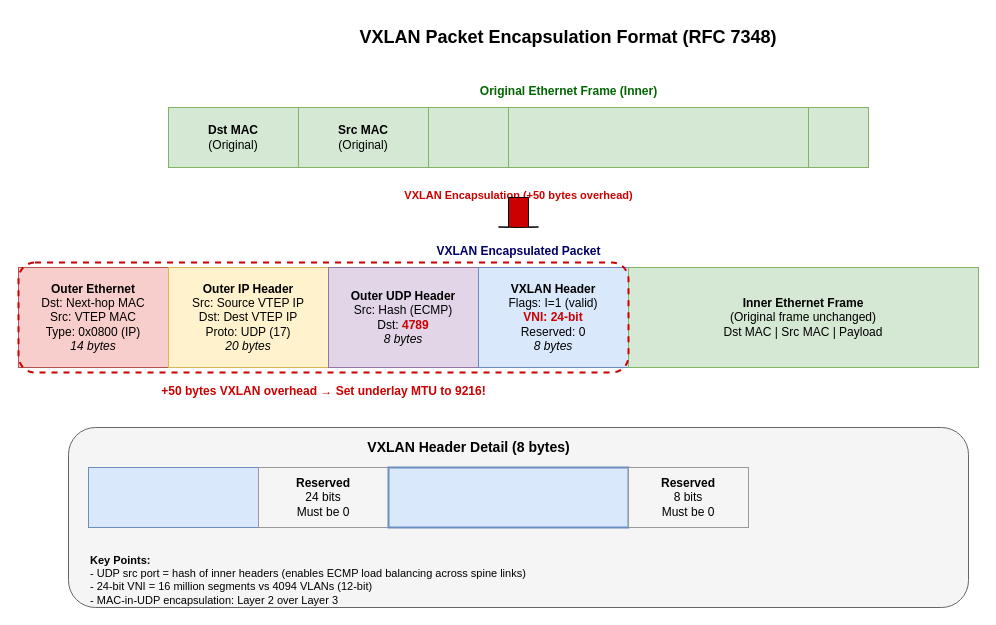
This 996x625 diagram has some shape labels left out. The box of each missing label's shape, as (x1, y1, x2, y2) in pixels:
EtherType: (428, 106, 508, 168)
FCS: (808, 106, 868, 168)
Flags (8 bits) R R R R I R R R I=1 means valid VNI: (88, 466, 258, 528)
Original Payload (IP + Data): (508, 106, 808, 168)
VNI (24 bits) 0 to 16,777,215 Identifies the VXLAN segment: (387, 466, 629, 528)
